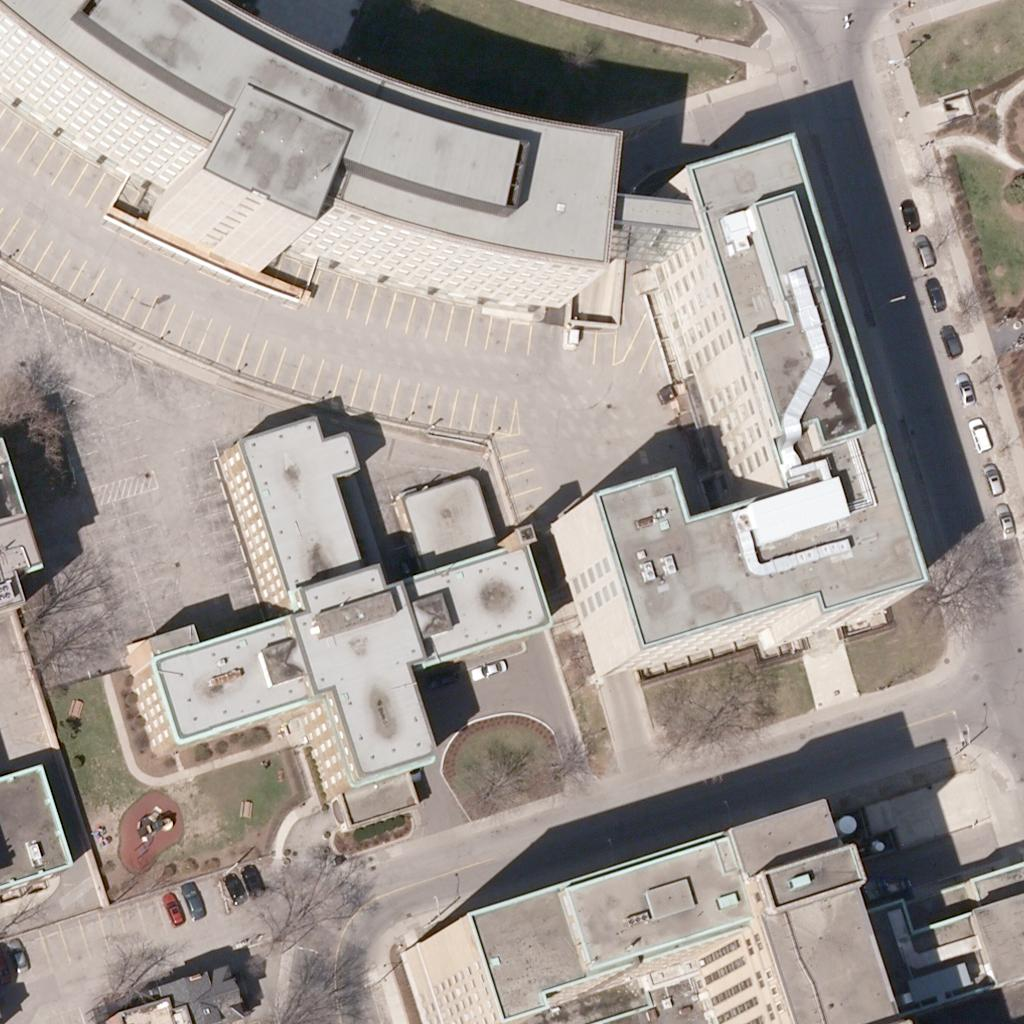car: (893, 194, 927, 228), (906, 231, 940, 265), (920, 276, 954, 310), (935, 325, 969, 359), (949, 373, 983, 407), (964, 416, 998, 450), (974, 459, 1008, 493), (987, 500, 1021, 534), (471, 651, 505, 685), (421, 663, 455, 697), (234, 860, 268, 894), (215, 866, 249, 900), (173, 877, 207, 911), (155, 888, 189, 922), (157, 891, 191, 925), (0, 936, 34, 970)
